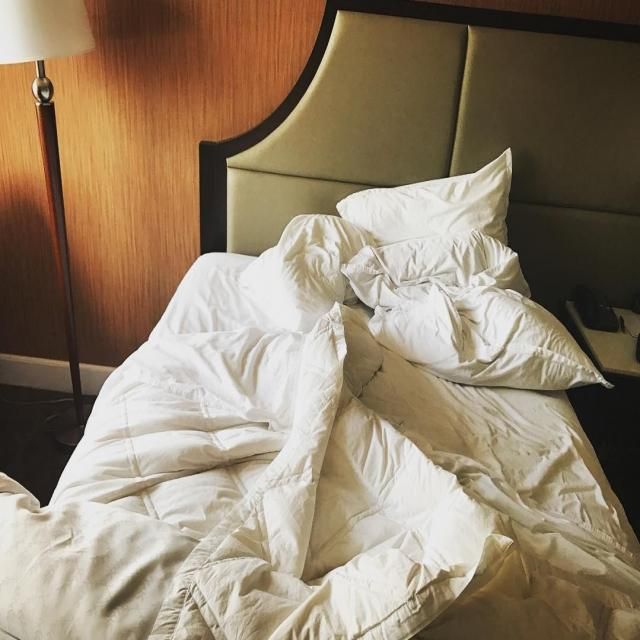bed: (108, 195, 566, 640)
